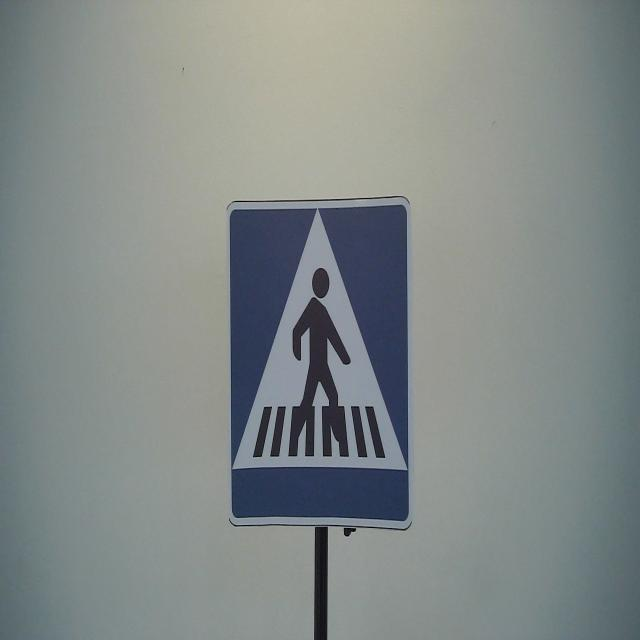crosswalk_sign: (224, 194, 414, 530)
